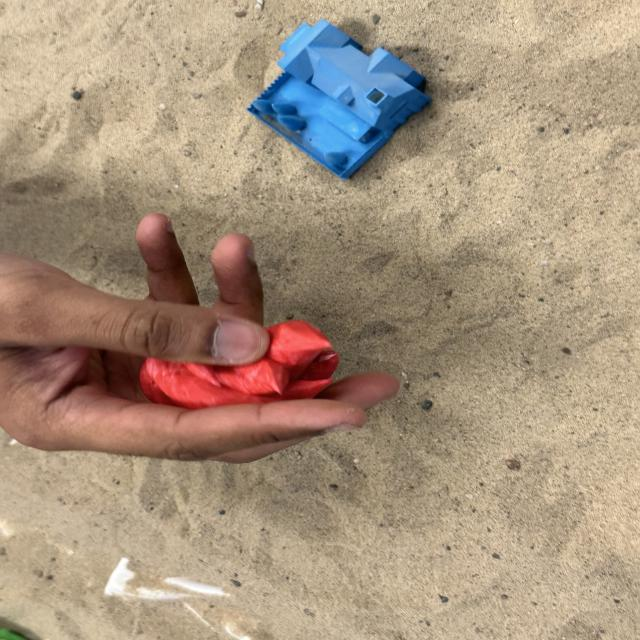fire: (150, 319, 336, 404)
house: (245, 18, 432, 181)
